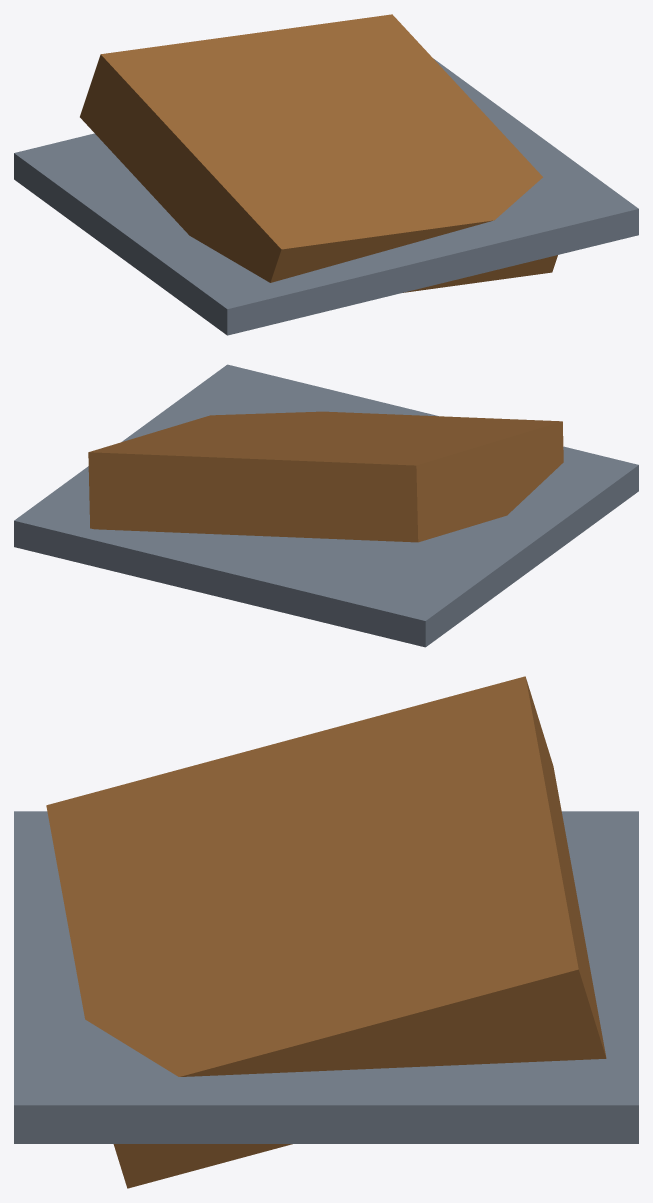
The model's file is commercial-shop-gable-wreck.glb.
3 views of the same model, one above another, from view 1: azimuth 30°, elevation 25°; view 2: azimuth 150°, elevation 25°; view 3: azimuth 270°, elevation 25° (orthographic). The views are drawn at different scales.
Visible parts, largest first — view 1: Root; view 2: Root; view 3: Root.
Boxes of the visible parts, bbox=[...] form: Root: bbox=[14, 14, 638, 335]; Root: bbox=[14, 364, 638, 647]; Root: bbox=[14, 676, 638, 1188].
Bounding box in the file's own units: 9.8 × 4.46 × 8.8.
